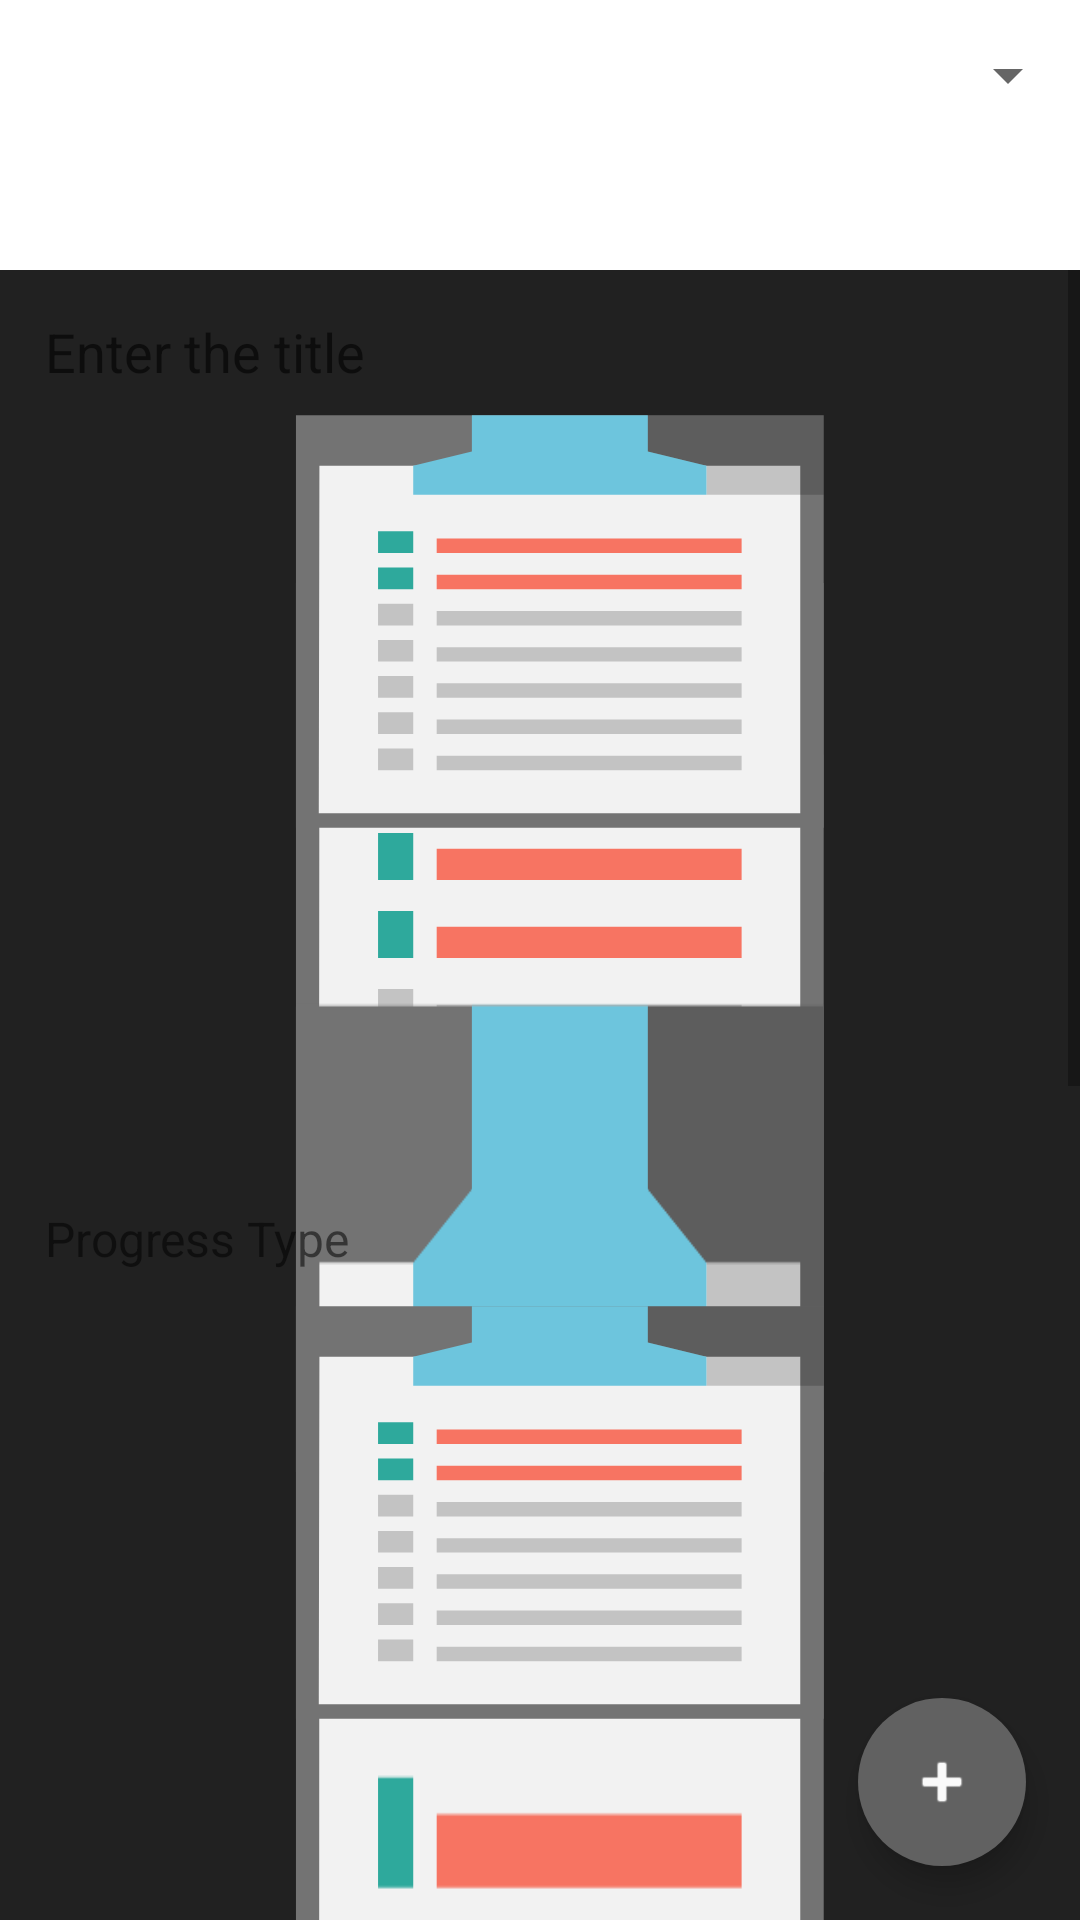

Named icons in this screenshot (1080 × 1920) and their bounding boxes, (x1,y1,x2,y2):
add: (858,1698,1026,1866)
